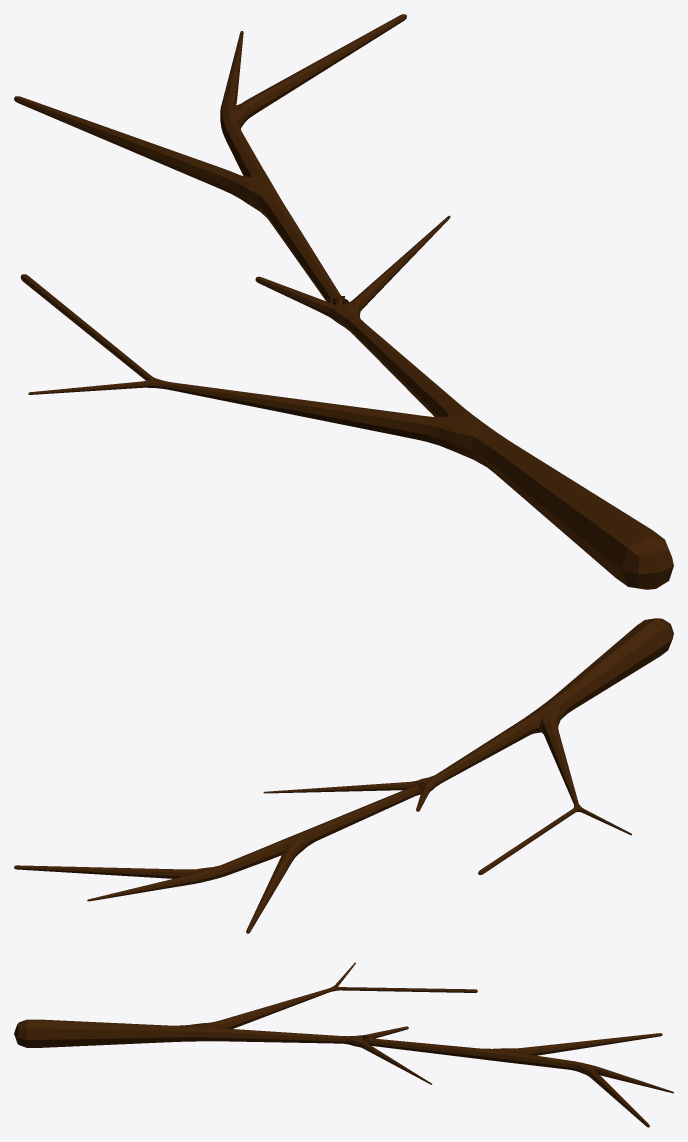
Rendered from BranchSource.fbx.
3 views of the same model, one above another, from view 1: azimuth 30°, elevation 25°; view 2: azimuth 150°, elevation 25°; view 3: azimuth 270°, elevation 25° (orthographic). The views are drawn at different scales.
Visible parts, largest first — view 1: Cube; view 2: Cube; view 3: Cube.
Part boxes in pixels (left/top/right/bottom): Cube: left=14, top=14, right=673, bottom=589; Cube: left=14, top=618, right=673, bottom=933; Cube: left=14, top=962, right=673, bottom=1127.
Size of the model in its own units: 1.26 by 0.0958 by 2.15.
